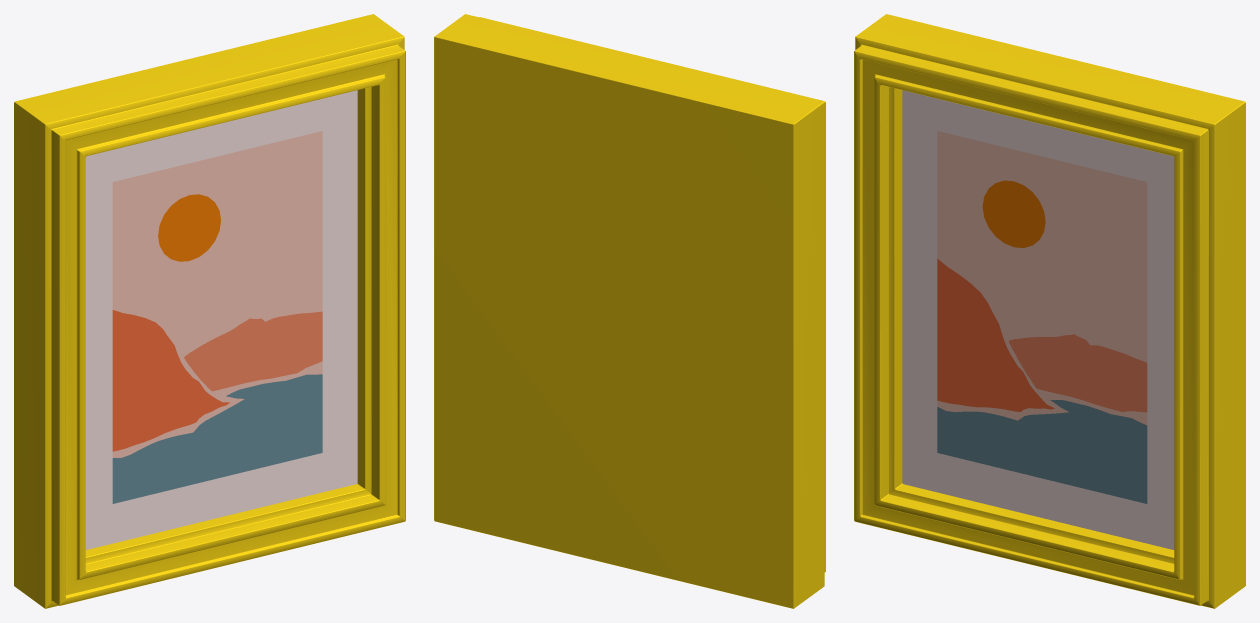
File: Public_9_Painting_1.glb
3 renders of one model, left to right at view 1: azimuth 30°, elevation 25°; view 2: azimuth 150°, elevation 25°; view 3: azimuth 330°, elevation 25°, orthographic.
Visible parts, largest first — view 1: Public_9_Painting_1; view 2: Public_9_Painting_1; view 3: Public_9_Painting_1.
Boxes of the visible parts, x1,y1,x2,y2 form: Public_9_Painting_1: [14, 14, 405, 608]; Public_9_Painting_1: [434, 14, 825, 608]; Public_9_Painting_1: [854, 14, 1245, 608].
Bounding box in the file's own units: 1.95 × 2.51 × 0.3661.
1 material, 1 textured.
